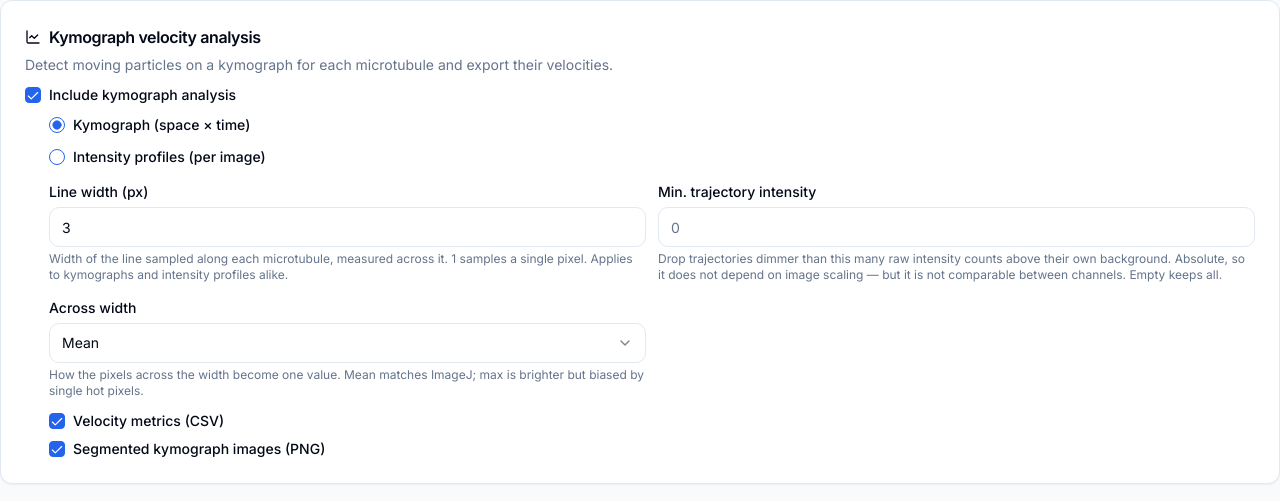
Test: MicrotubuleKymographsSection line width › snaps back on blur when the field was left invalid
Clear the number field labelled "Line width (px)". click: (348, 227)
box: [49,207,646,247]
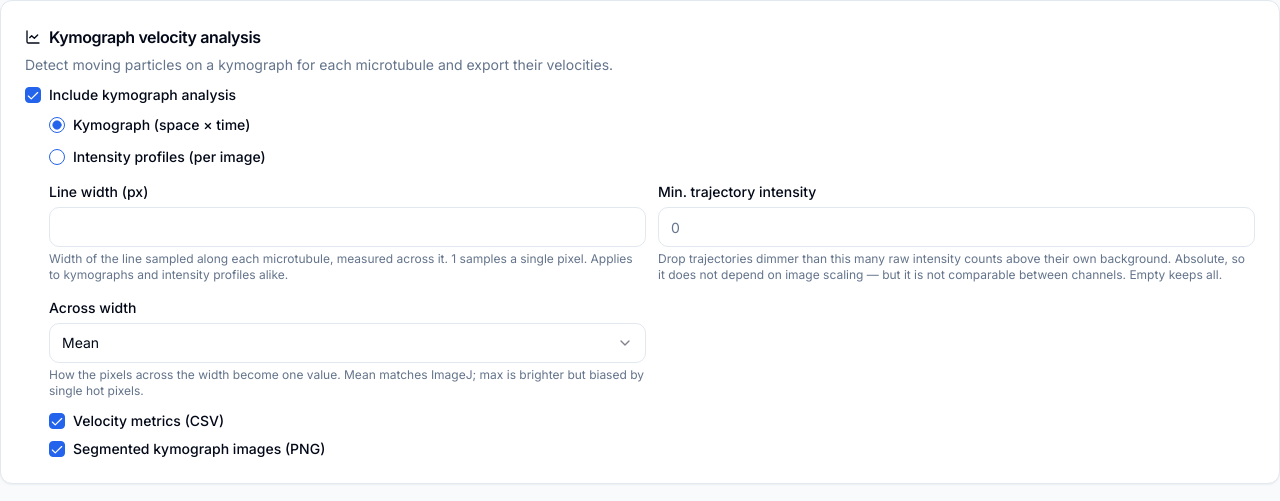
Leave the number field labelled "Line width (px)", box [49,207,646,247]
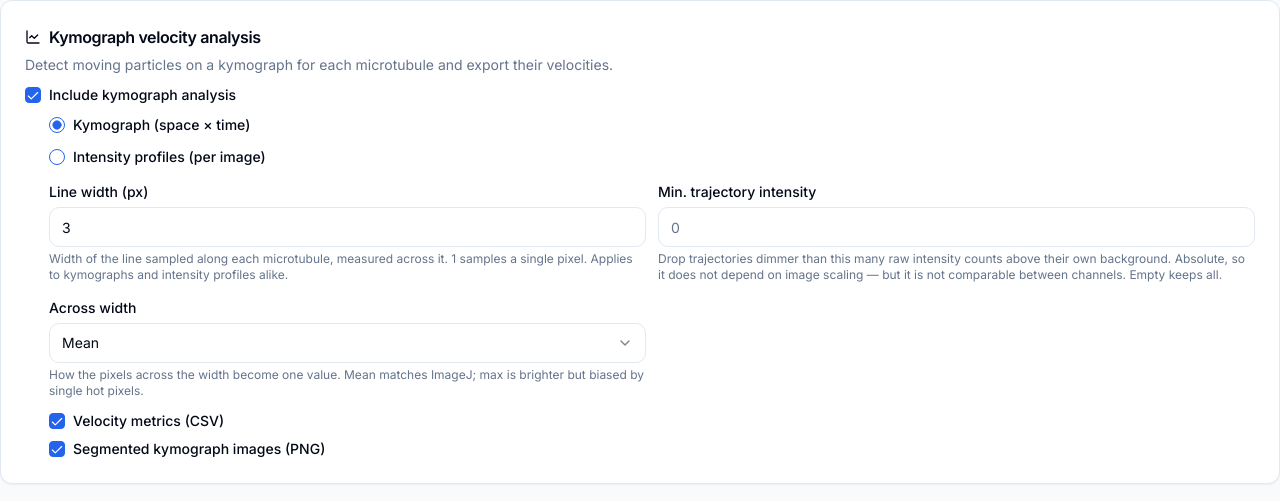
Expected: the number field labelled "Line width (px)" holds "3", [49,207,646,247]
